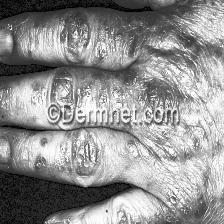Non-Cancerous Skin Condition: (49, 12, 220, 224)
